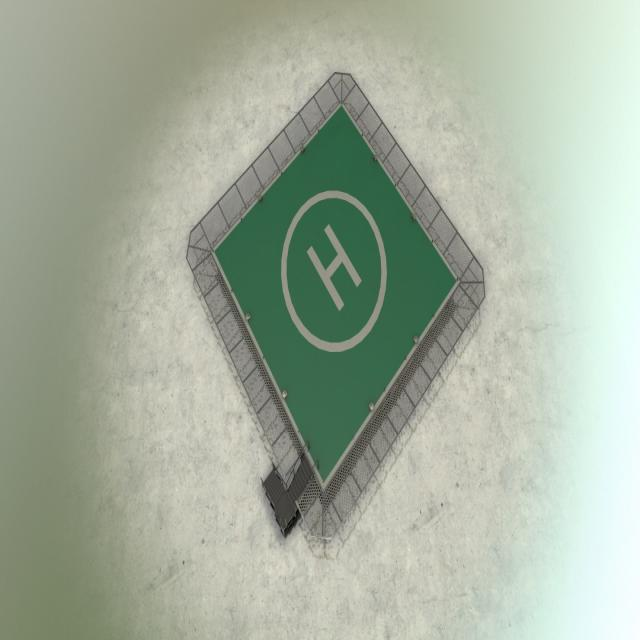helipad: (275, 182, 391, 356)
